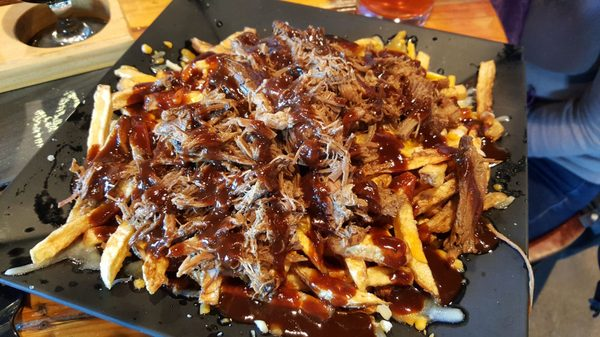pizza: (357, 1, 436, 25)
